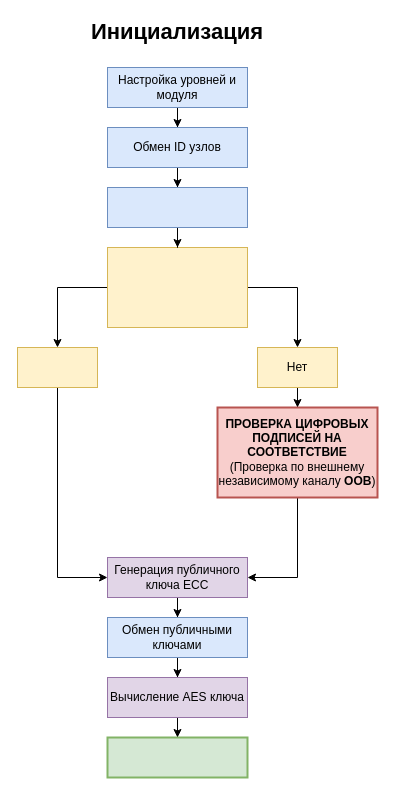
Some shapes in this 396 by 795 pixel diagram are drawn without their labels. The shapes that lost their labels are listed below. From the top down, each one's box as (x1, y1, x2, y2) in pixels, then its label:
(106, 186, 248, 228): Обмен цифровыми подписями
(106, 246, 248, 328): Проверка: знаком ли этот узел (сохранена ли такая цифровая подпись раннее)
(16, 346, 98, 388): Да
(106, 736, 248, 778): Готовность к передаче сообщений
